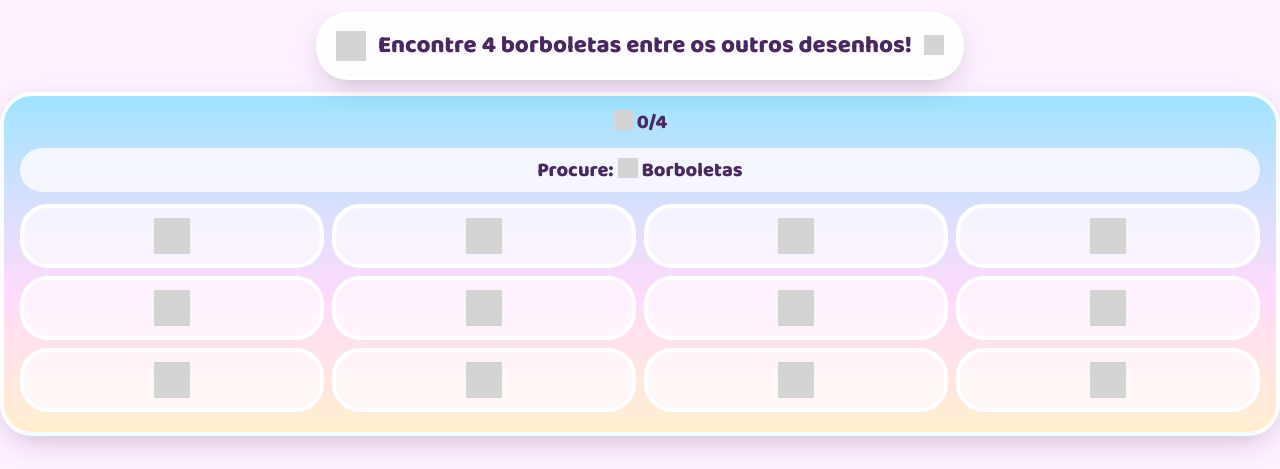
Test: controles das novas mecânicas › conclui search pelos botões visíveis uma única vez
This screenshot has width=1280, height=469.
What coordinates should you click on to do the following:
click the button named "Borboletas, posição 1"
I would click on:
 (172, 236)
Its box is [20, 204, 324, 268].
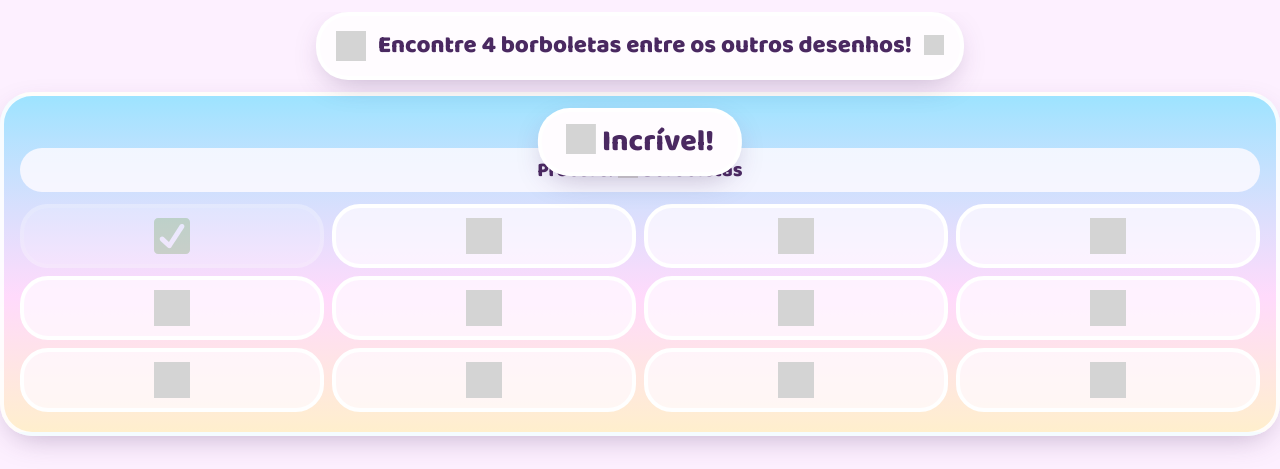
What coordinates should you click on to do the following:
click the button named "Borboletas, posição 5"
I would click on:
 (172, 308)
Its box is [20, 276, 324, 340].
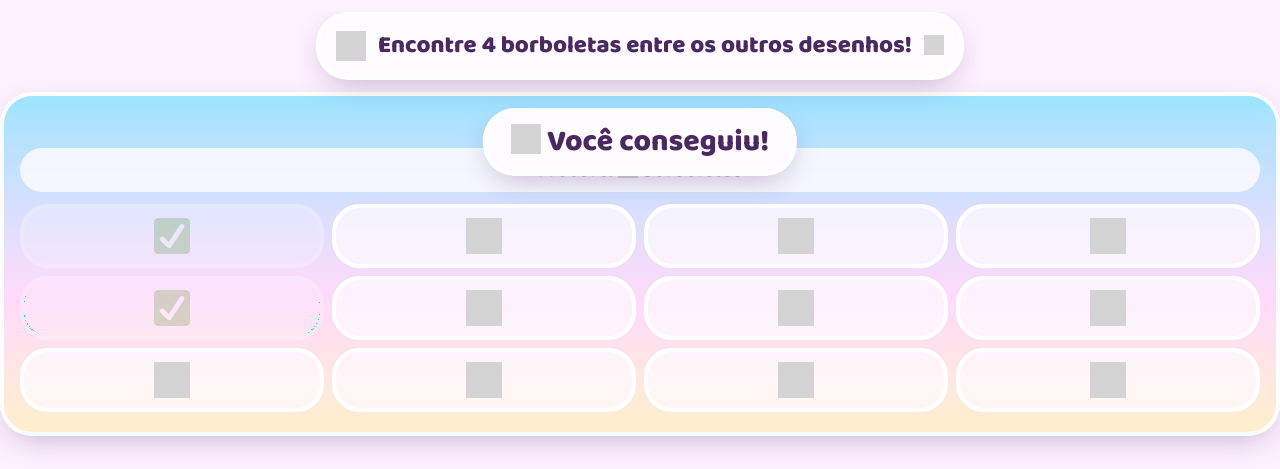
What coordinates should you click on to do the following:
click the button named "Borboletas, posição 11"
I would click on:
 (796, 380)
Its box is [644, 348, 948, 412].
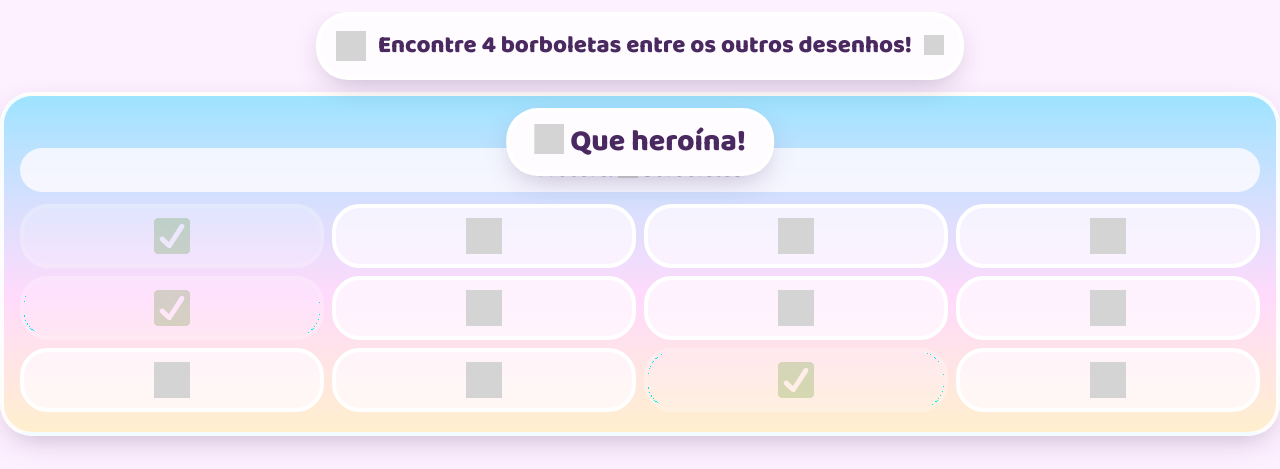
What coordinates should you click on to do the following:
click the button named "Borboletas, posição 12"
I would click on:
 (1108, 380)
Its box is [956, 348, 1260, 412].
Wait 4700 ms
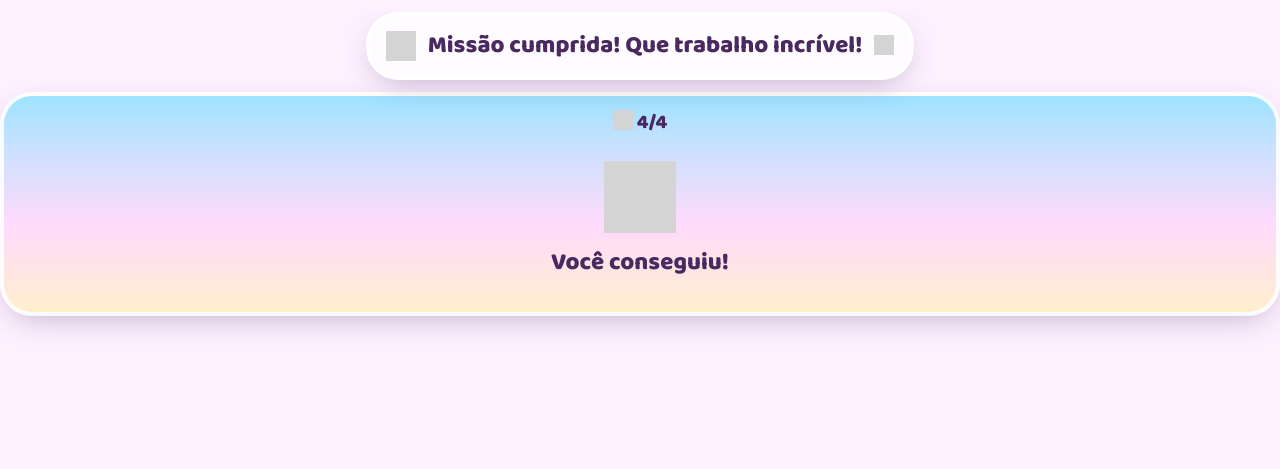
Expected: the message reads "4/4", [613, 106, 667, 138]
